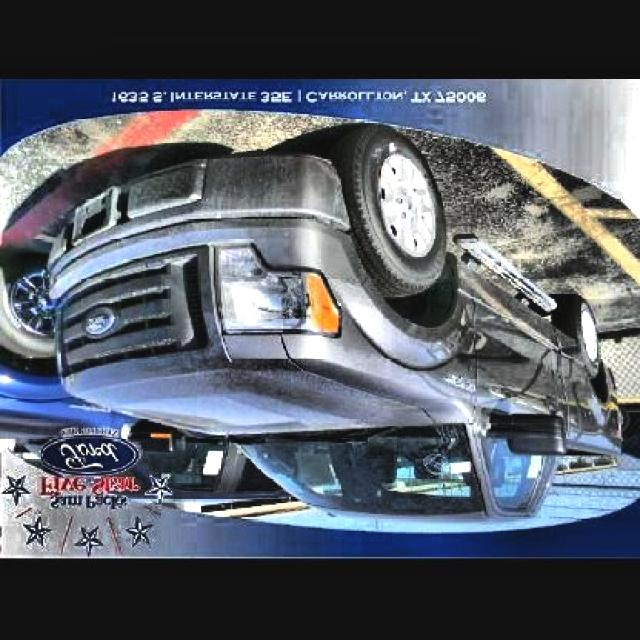black: (67, 187, 640, 523)
